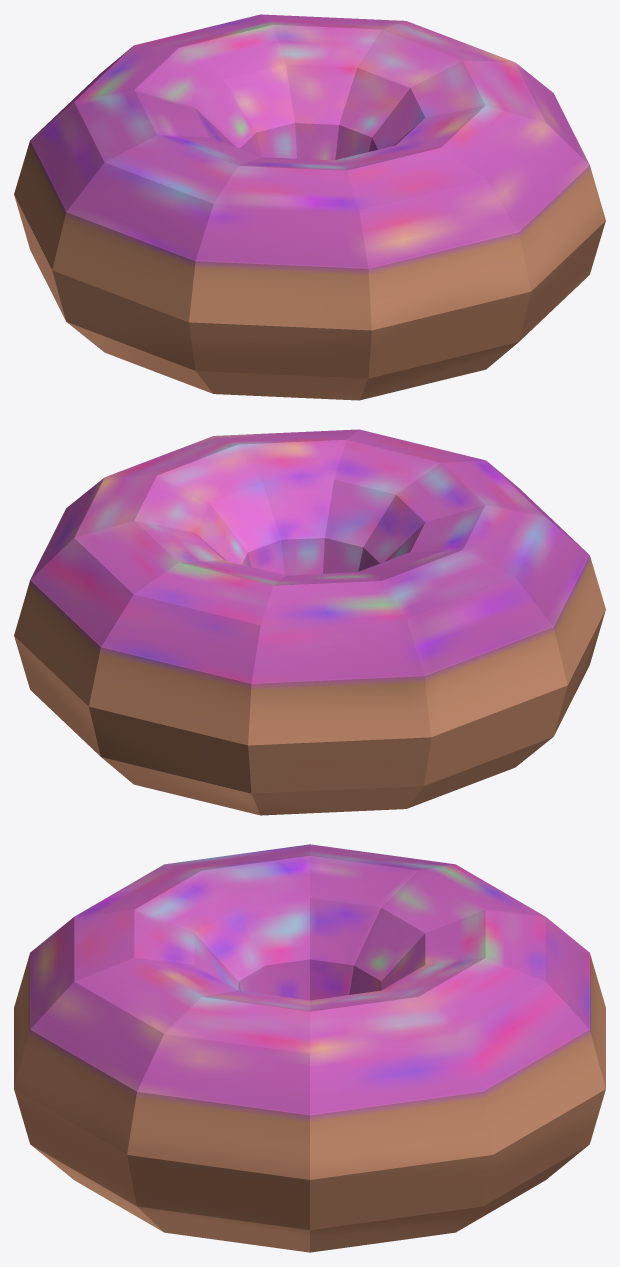
File: Good_Donut_V1.glb
3 views of the same model, one above another, from view 1: azimuth 30°, elevation 25°; view 2: azimuth 150°, elevation 25°; view 3: azimuth 270°, elevation 25° (orthographic). The views are drawn at different scales.
Visible parts, largest first — view 1: Good-Donut-col; view 2: Good-Donut-col; view 3: Good-Donut-col.
Part boxes in pixels (box(x1,y1,x2,y2)): Good-Donut-col: box(14, 14, 605, 400); Good-Donut-col: box(14, 429, 605, 815); Good-Donut-col: box(14, 844, 605, 1252).
Bounding box in the file's own units: 0.59 × 0.24 × 0.5611.
Materials: 1 (1 with a texture image).
